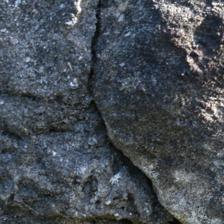Crack: (41, 4, 135, 214)
